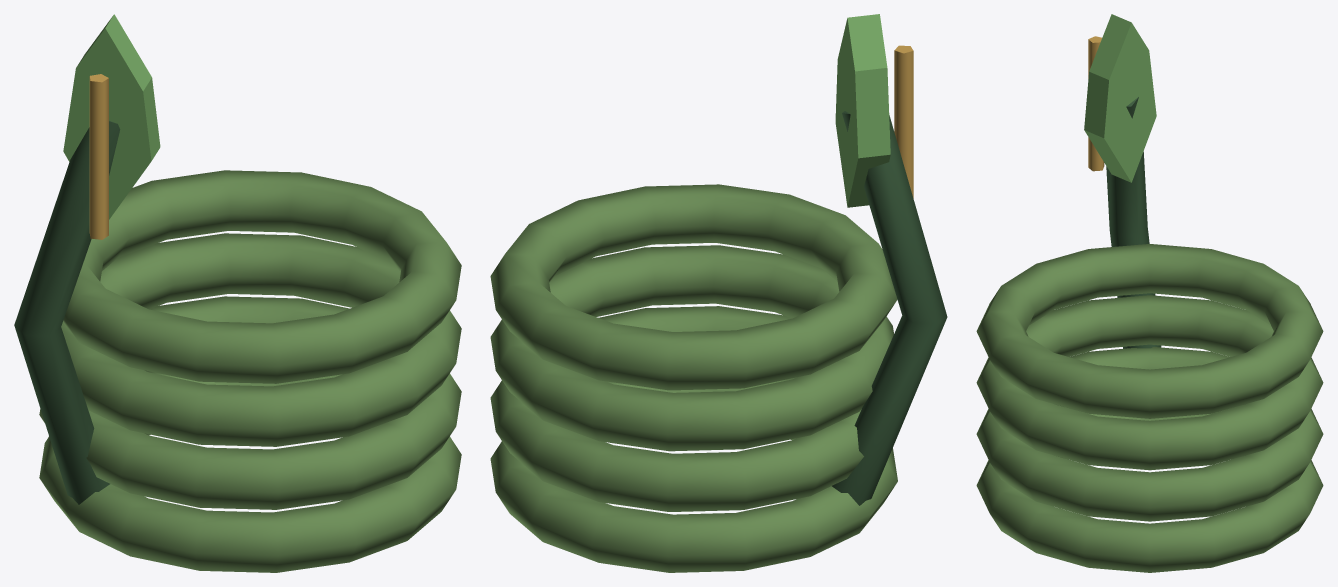
Rendered from forest_fiber.fbx.
The picture shows the model from 3 angles, left to right: view 1: azimuth 30°, elevation 25°; view 2: azimuth 150°, elevation 25°; view 3: azimuth 270°, elevation 25°; orthographic projection. The views are drawn at different scales.
Visible parts, largest first — view 1: forest_fiber; view 2: forest_fiber; view 3: forest_fiber.
Boxes of the visible parts, x1=… form: forest_fiber: x1=14, y1=14, x2=461, y2=572; forest_fiber: x1=490, y1=14, x2=947, y2=572; forest_fiber: x1=976, y1=14, x2=1323, y2=572.
Bounding box in the file's own units: 0.5684 × 0.6603 × 0.49.
